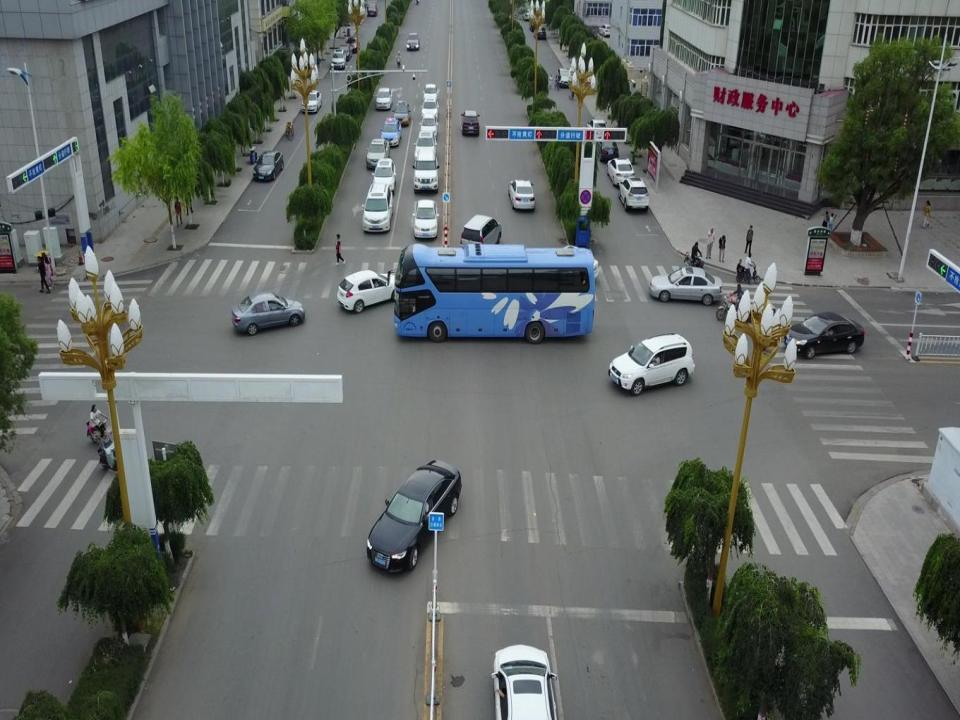bus: (394, 244, 594, 342)
car: (368, 459, 462, 576), (608, 332, 694, 394), (494, 644, 560, 720), (785, 312, 865, 360), (232, 292, 306, 337), (650, 266, 724, 304), (336, 270, 398, 314), (361, 184, 392, 231), (461, 217, 502, 250), (412, 150, 439, 191), (412, 198, 439, 237), (621, 178, 650, 214), (373, 157, 396, 194), (253, 153, 284, 180), (366, 136, 390, 170), (606, 157, 634, 185), (510, 181, 536, 211), (596, 133, 620, 162), (389, 100, 411, 126), (460, 109, 480, 136), (300, 90, 322, 112), (384, 118, 400, 148), (416, 131, 437, 152), (557, 66, 575, 88), (422, 97, 439, 120), (420, 114, 438, 133), (376, 87, 392, 107), (330, 52, 346, 70), (423, 82, 437, 102), (406, 32, 418, 50), (346, 36, 358, 54), (600, 22, 613, 36), (366, 3, 377, 16), (534, 26, 545, 38), (529, 19, 541, 30), (522, 7, 534, 18)
